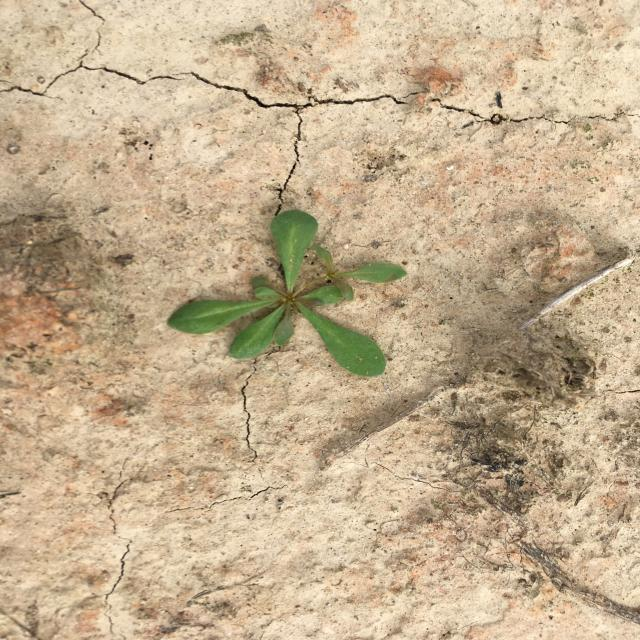Carpetweed: (166, 210, 408, 378)
